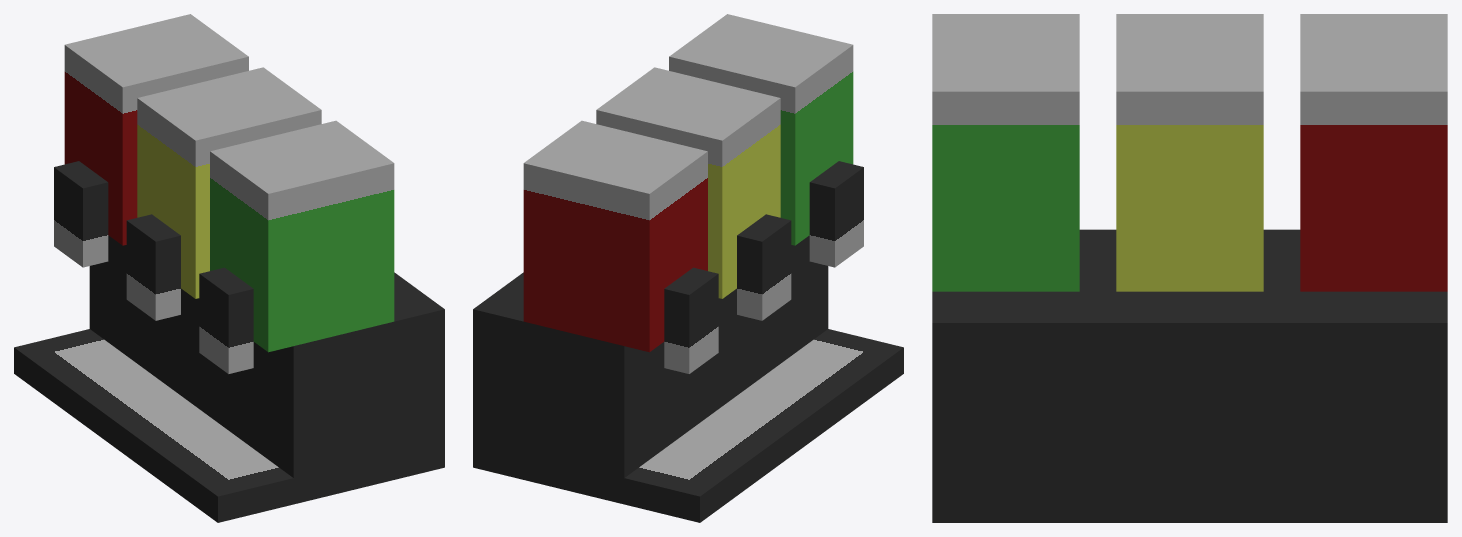
File: dozatorSuc.fbx
3 renders of one model, left to right at view 1: azimuth 30°, elevation 25°; view 2: azimuth 150°, elevation 25°; view 3: azimuth 270°, elevation 25°, orthographic. The views are drawn at different scales.
Visible parts, largest first — view 1: cube, cube_3, cube_7, cube_1, cube_2, cube_4, cube_6, cube_5; view 2: cube, cube_1, cube_7, cube_3, cube_2, cube_4, cube_6, cube_5; view 3: cube, cube_1, cube_2, cube_3.
Part boxes in pixels (left/top/right/bottom): cube: left=89, top=235, right=444, bottom=504; cube_3: left=210, top=120, right=394, bottom=352; cube_7: left=14, top=329, right=293, bottom=522; cube_1: left=64, top=14, right=248, bottom=245; cube_2: left=137, top=67, right=321, bottom=298; cube_4: left=54, top=161, right=108, bottom=267; cube_6: left=199, top=267, right=253, bottom=373; cube_5: left=126, top=214, right=180, bottom=320; cube: left=473, top=235, right=828, bottom=504; cube_1: left=523, top=120, right=707, bottom=352; cube_7: left=624, top=329, right=903, bottom=522; cube_3: left=669, top=14, right=853, bottom=245; cube_2: left=596, top=67, right=780, bottom=298; cube_4: left=664, top=267, right=718, bottom=373; cube_6: left=809, top=161, right=863, bottom=267; cube_5: left=737, top=214, right=791, bottom=320; cube: left=932, top=229, right=1447, bottom=522; cube_1: left=1300, top=14, right=1447, bottom=291; cube_2: left=1116, top=14, right=1263, bottom=291; cube_3: left=932, top=14, right=1079, bottom=291.
Bounding box in the file's own units: 56.25 × 75 × 87.5.
Materials: 1 (1 with a texture image).
